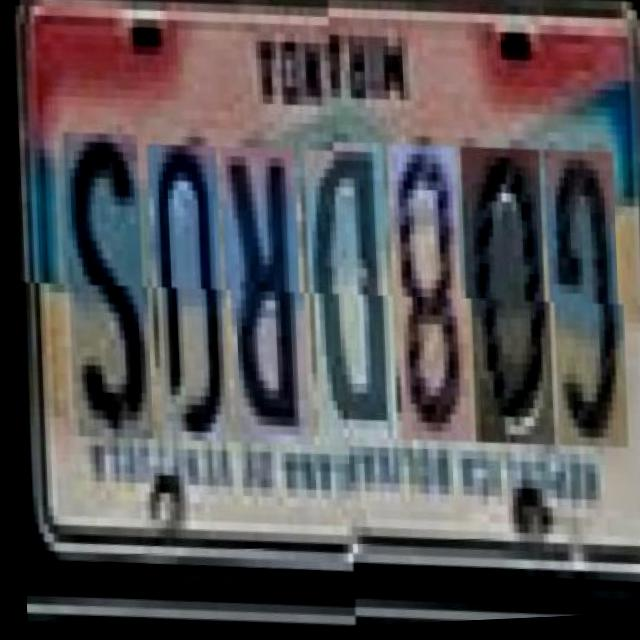0: (143, 144, 224, 445)
8: (383, 151, 463, 452)
d: (300, 148, 391, 451)
g: (540, 154, 621, 457)
o: (456, 152, 547, 456)
r: (217, 146, 302, 448)
s: (59, 132, 145, 443)
